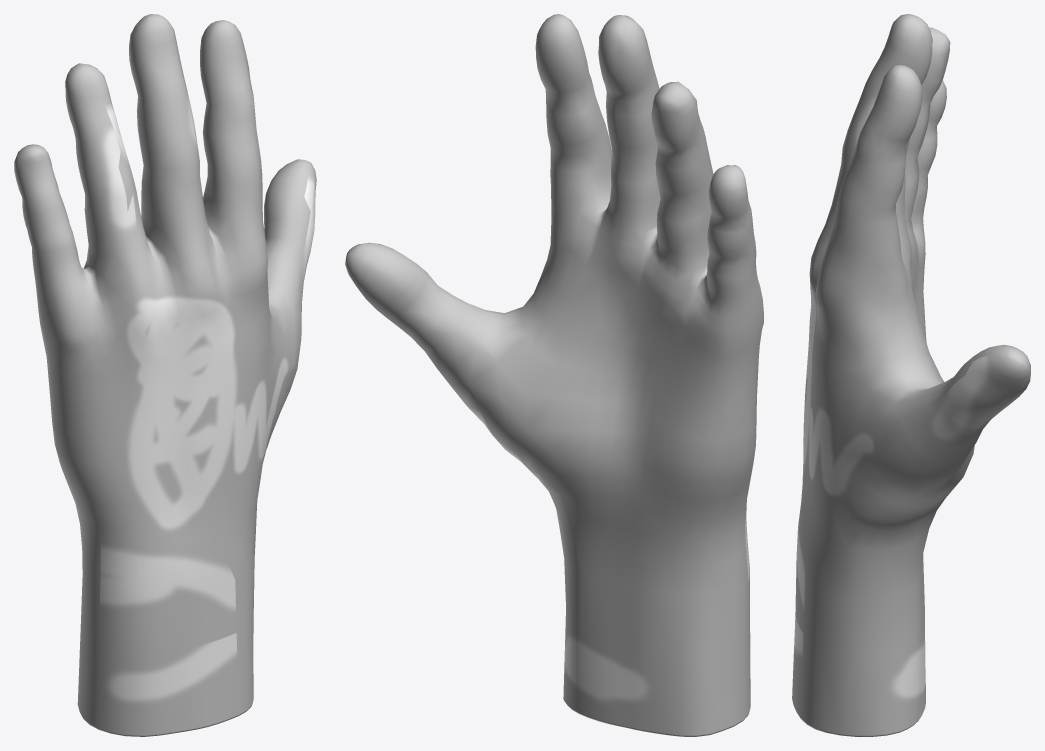
Rendered from testy.fbx.
The picture shows the model from 3 angles, left to right: view 1: azimuth 30°, elevation 25°; view 2: azimuth 150°, elevation 25°; view 3: azimuth 270°, elevation 25°; orthographic projection. The views are drawn at different scales.
Parts seen in each view (by area): view 1: GenericHand.002; view 2: GenericHand.002; view 3: GenericHand.002.
Part boxes in pixels (box(x1,y1,x2,y2)): GenericHand.002: box(14, 14, 316, 736); GenericHand.002: box(345, 14, 763, 736); GenericHand.002: box(792, 14, 1030, 736).
Bounding box in the file's own units: 12.57 × 23.87 × 7.5.
Materials: 1 (1 with a texture image).
